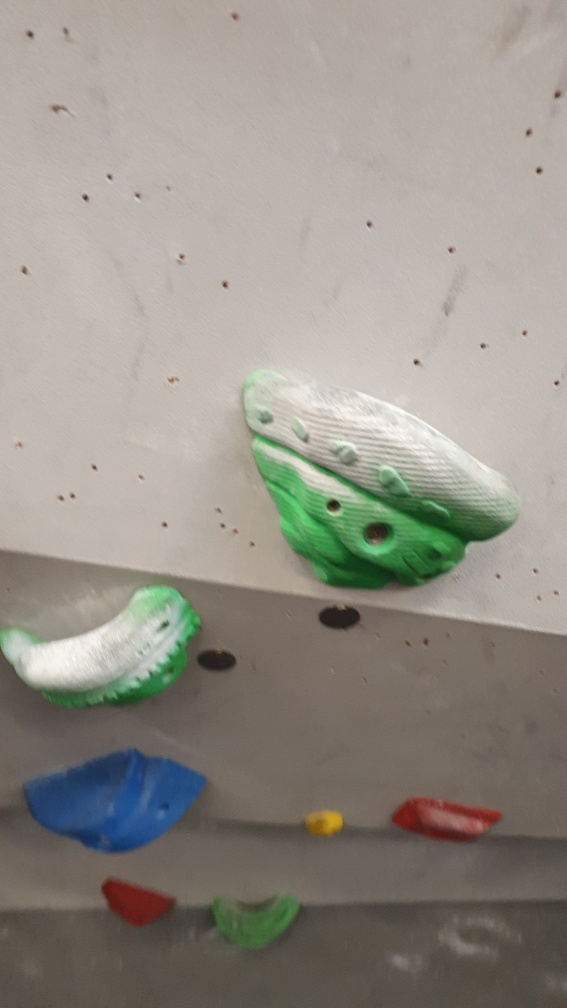Crimp: (389, 789, 505, 846)
Hand Start: (313, 598, 368, 637), (195, 642, 240, 679)
Jug: (235, 360, 521, 599), (1, 580, 208, 711), (205, 881, 309, 948)
Pinch: (21, 747, 211, 856)
